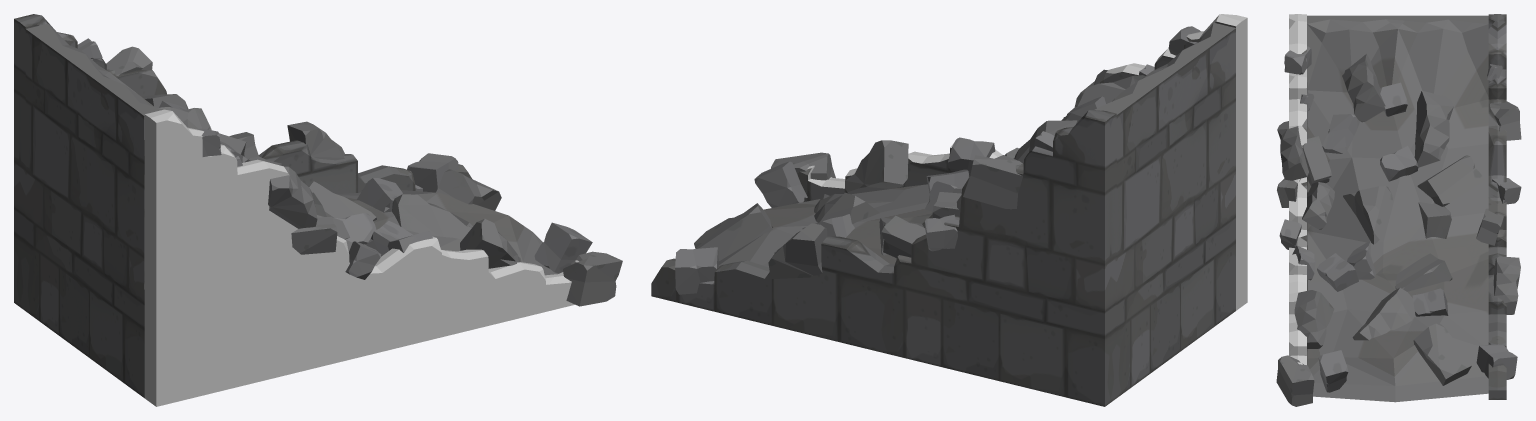
Rendered from SM_Bld_Wall_L_Damaged_Double_03.fbx.
3 views of the same model, side by side, from view 1: azimuth 30°, elevation 25°; view 2: azimuth 150°, elevation 25°; view 3: azimuth 270°, elevation 25° (orthographic). The views are drawn at different scales.
Visible parts, largest first — view 1: SM_Bld_Wall_L_Damaged_Double_03; view 2: SM_Bld_Wall_L_Damaged_Double_03; view 3: SM_Bld_Wall_L_Damaged_Double_03.
Part boxes in pixels (box(x1,y1,x2,y2)): SM_Bld_Wall_L_Damaged_Double_03: box(14, 14, 622, 406); SM_Bld_Wall_L_Damaged_Double_03: box(651, 14, 1247, 406); SM_Bld_Wall_L_Damaged_Double_03: box(1276, 14, 1521, 406).
Bounding box in the file's own units: 1037 × 631 × 614.
